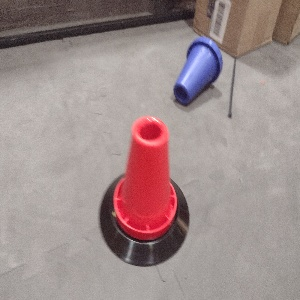Blue_1: (169, 30, 225, 105)
Red_1: (110, 112, 179, 241)
